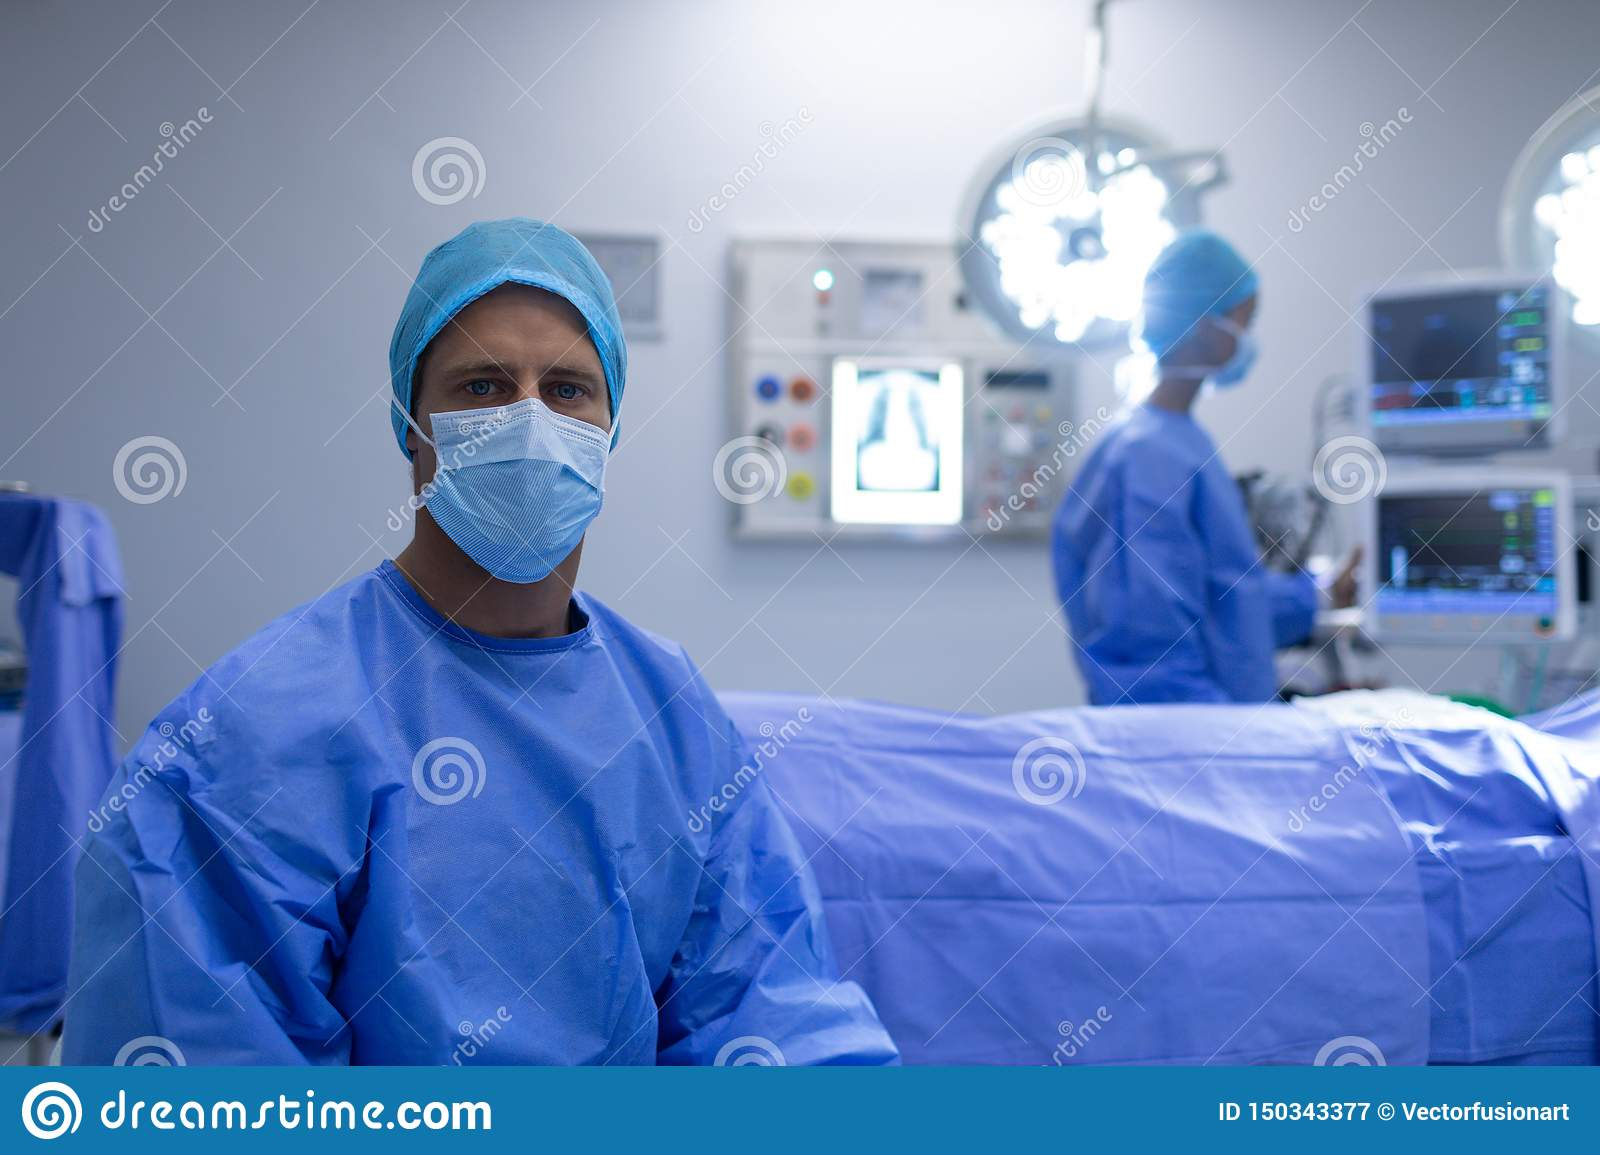mask: (436, 410, 624, 582)
